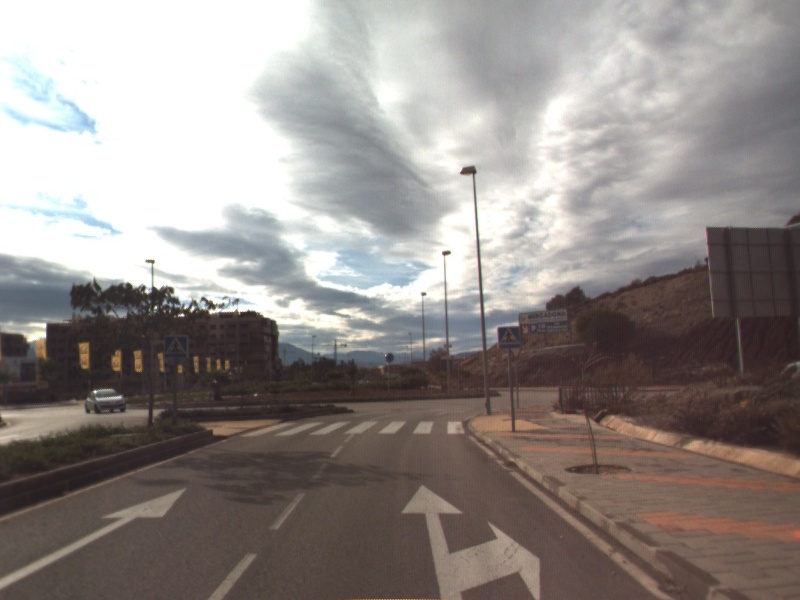STRAIGHT: (1, 486, 189, 590)
STRAIGHT_RIGHT: (399, 482, 542, 600)
